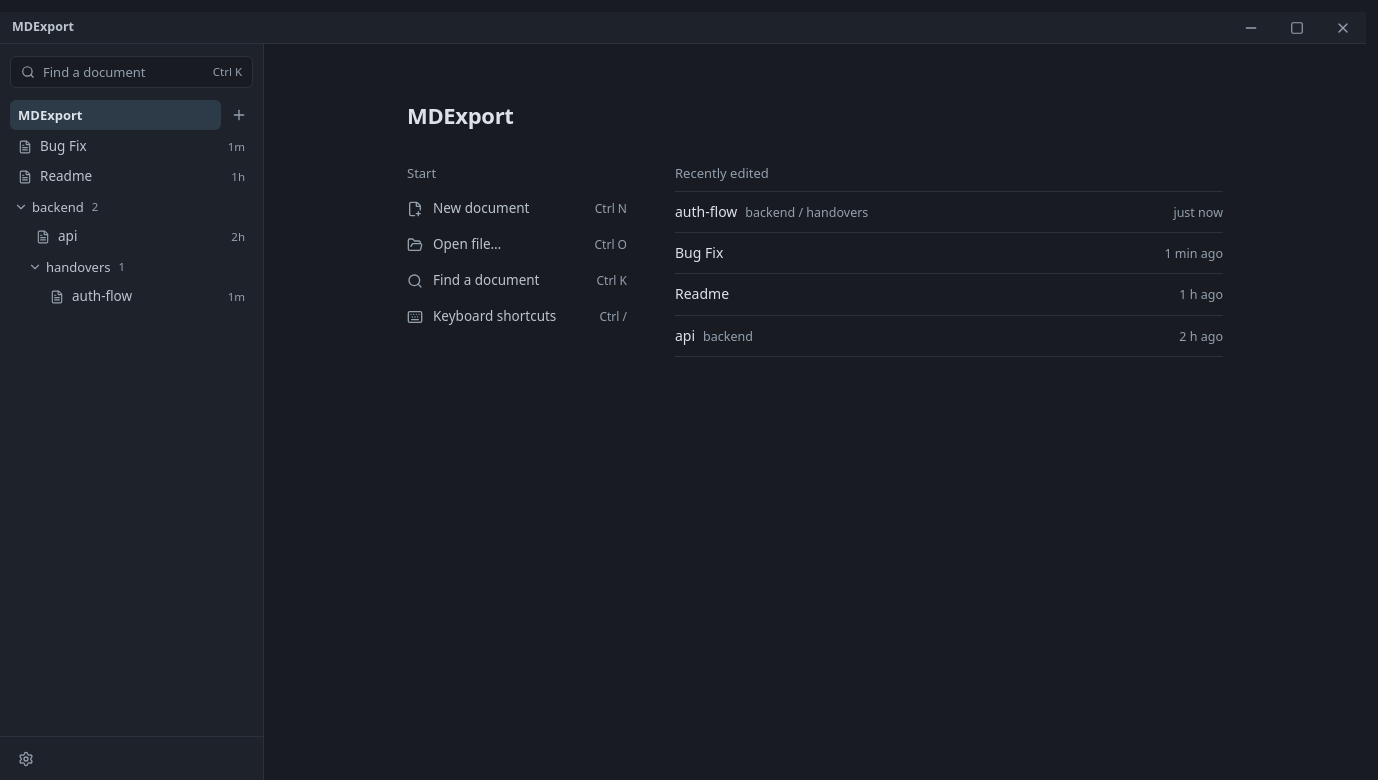
Test: Library index › the + menu names a new folder in place at the top level
The image size is (1378, 780).
Step 1. Click the button named "Create" → (239, 115), box left=225, top=101, right=253, bottom=129
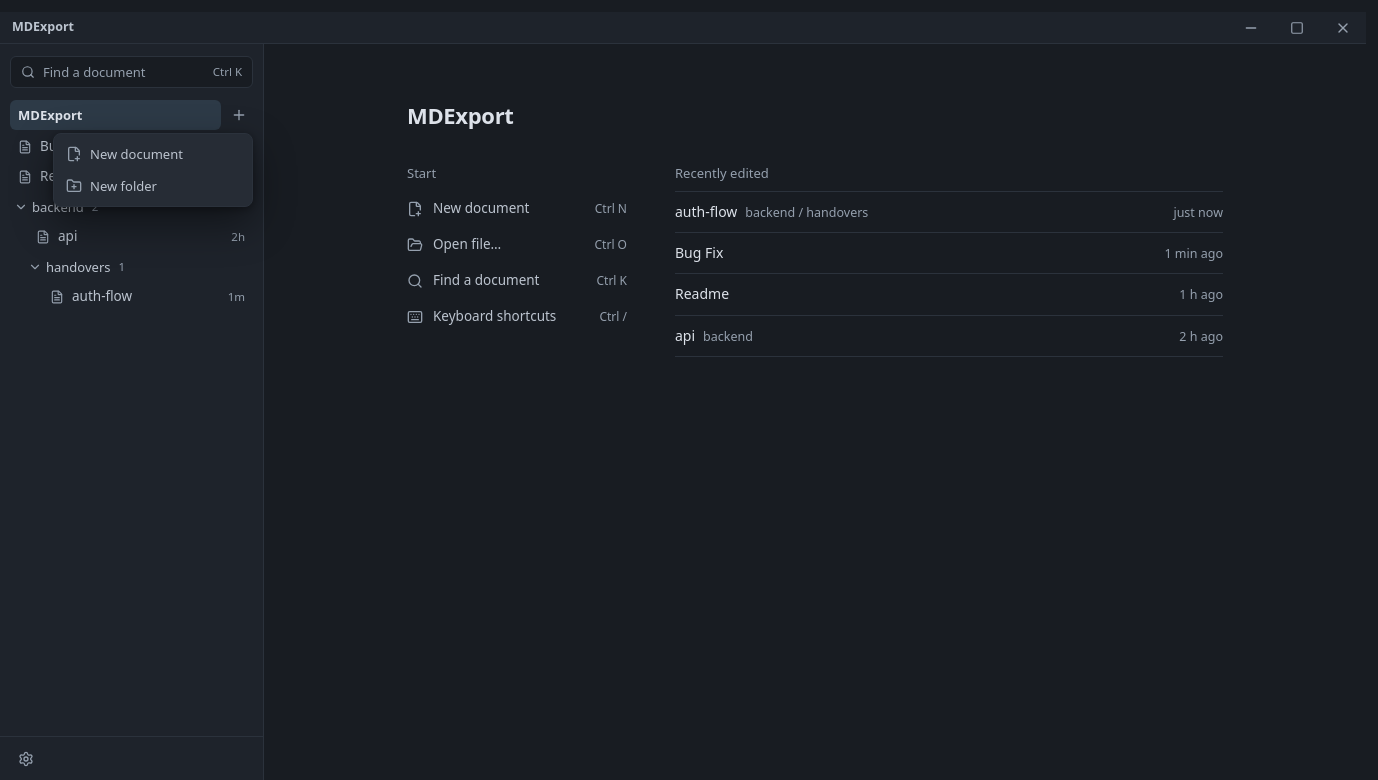
Step 2. Click the menu item "New folder" → (111, 186), box left=66, top=177, right=157, bottom=195
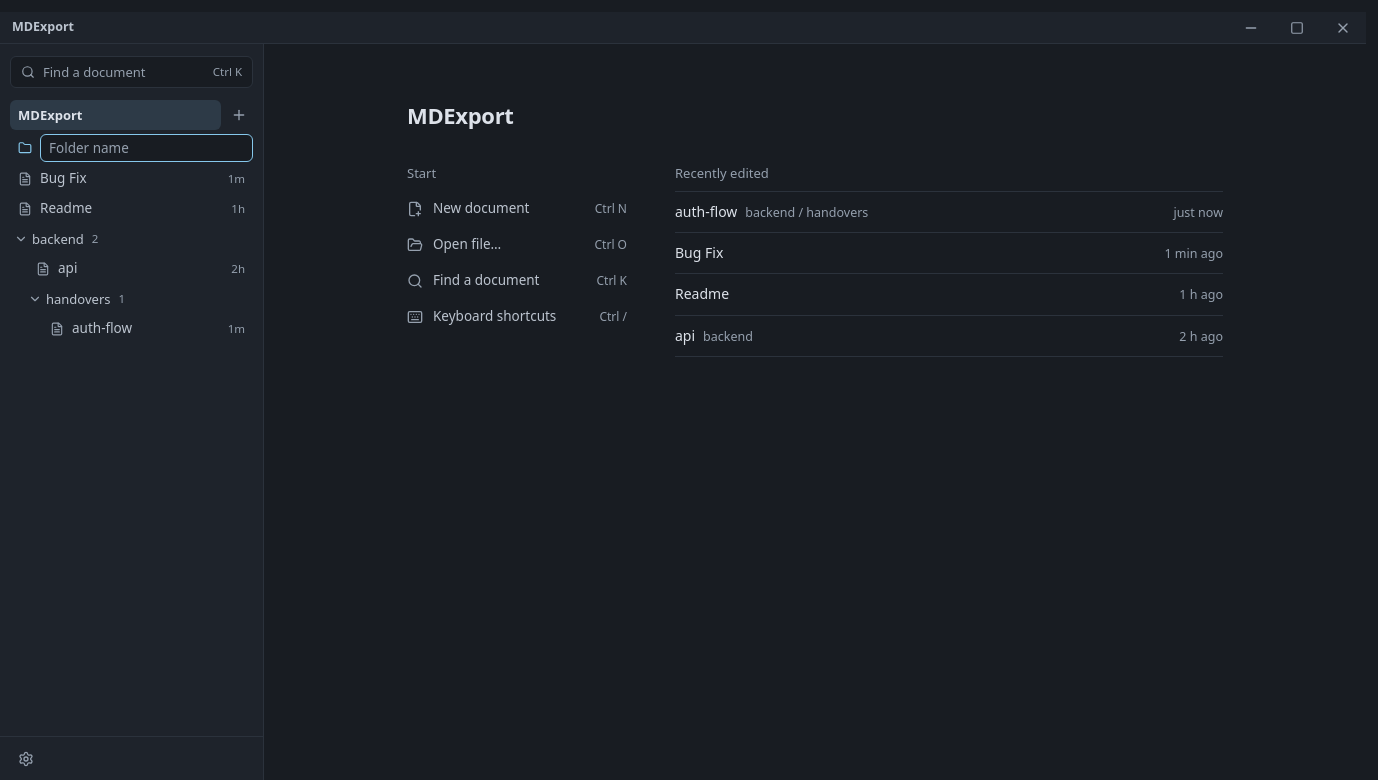
Step 3. Type "frontend" into the field named "New folder name" → (146, 148), box left=40, top=134, right=253, bottom=162
Then press Enter
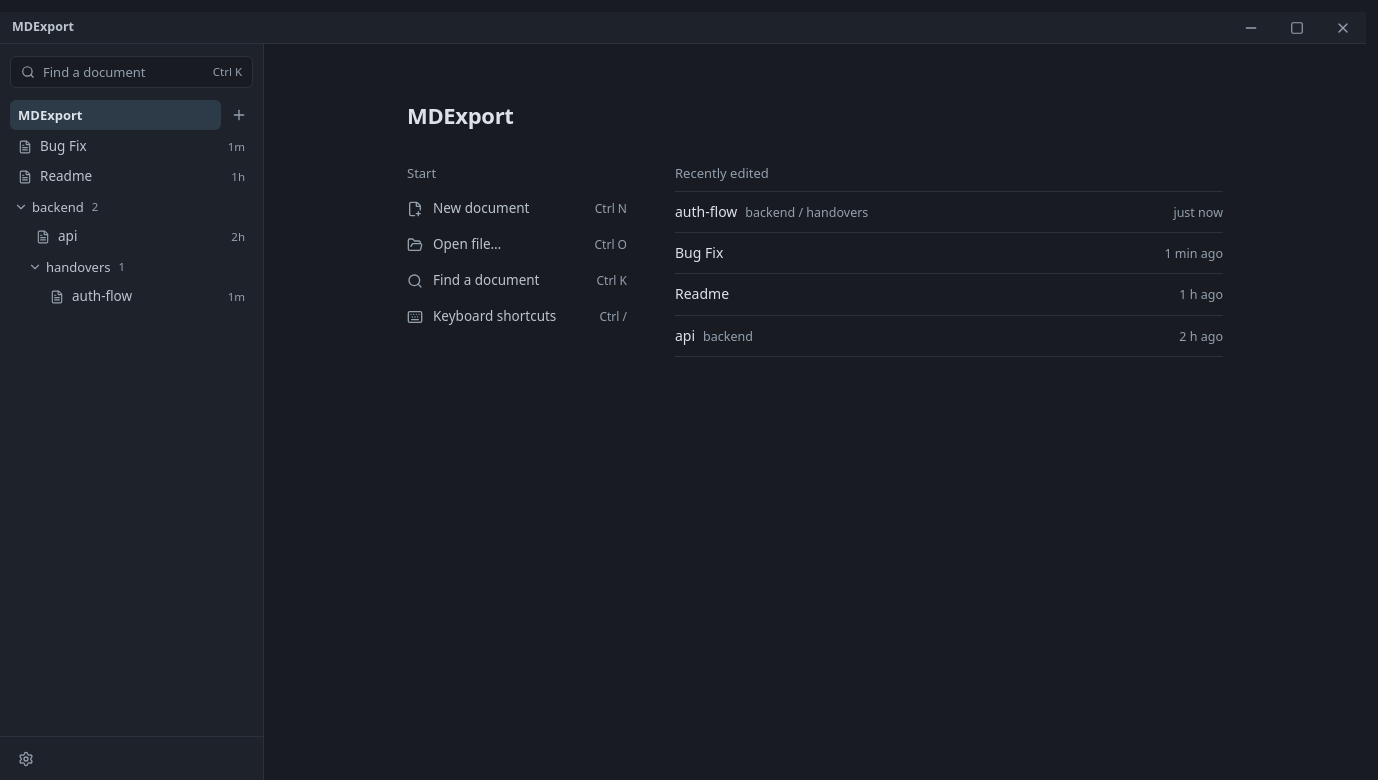
Result: the field is gone
